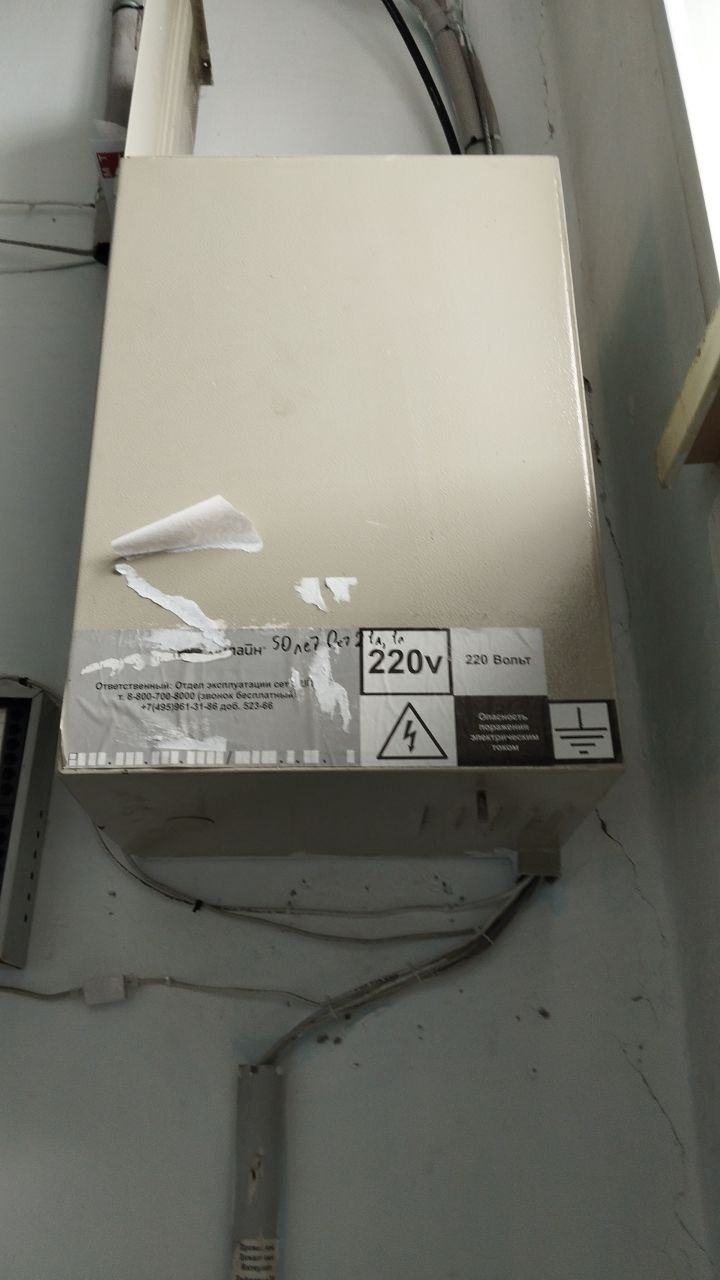sv-5: (46, 141, 637, 879)
